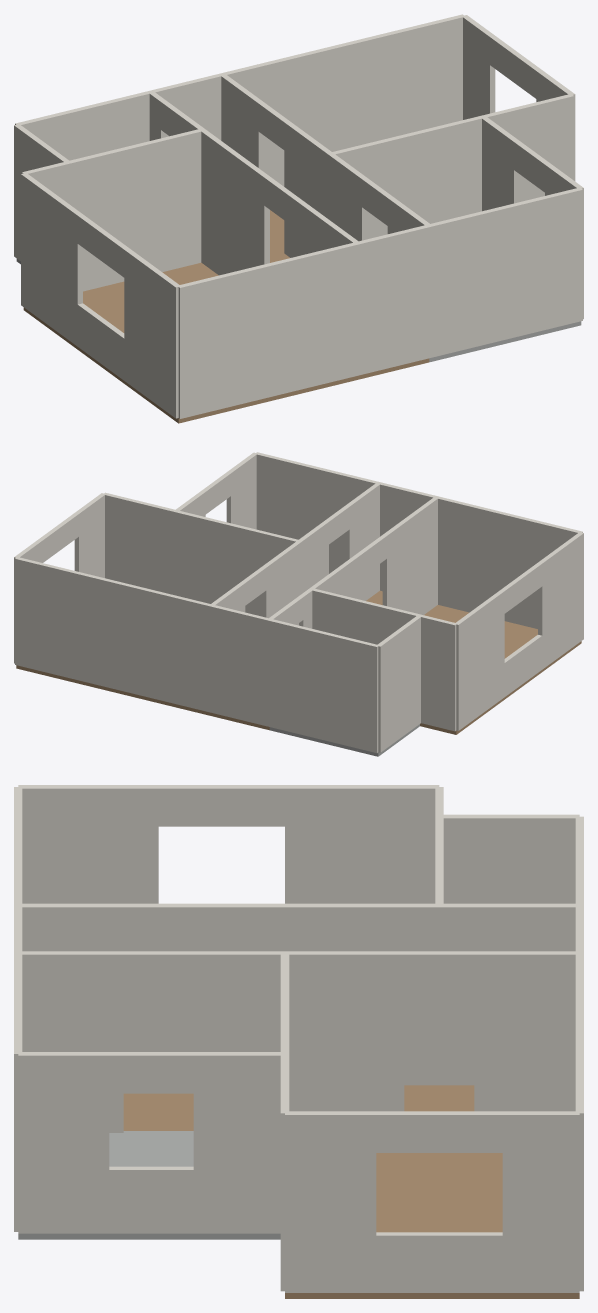
The model's file is property.glb.
3 renders of one model, top to bottom at view 1: azimuth 30°, elevation 25°; view 2: azimuth 150°, elevation 25°; view 3: azimuth 270°, elevation 25°, orthographic. The views are drawn at different scales.
Parts seen in each view (by area): view 1: wall_33, wall_35, wall_28, wall_30, wall_31, wall_34, wall_1, wall_9, wall_4, wall_26, wall_32, floor_bedroom (+23 smaller); view 2: wall_28, wall_26, wall_33, wall_31, wall_35, wall_27, wall_32, wall_1, wall_11, wall_4, wall_5, wall_29 (+23 smaller); view 3: wall_14, wall_1, wall_21, wall_25, wall_12, wall_4, wall_18, wall_22, wall_11, wall_5, wall_9, floor_living (+22 smaller).
Part boxes in pixels (x1=…): wall_33: x1=178, y1=242, x2=358, y2=418; wall_35: x1=429, y1=187, x2=582, y2=357; wall_28: x1=221, y1=14, x2=464, y2=186; wall_30: x1=67, y1=128, x2=201, y2=291; wall_31: x1=330, y1=115, x2=484, y2=239; wall_34: x1=358, y1=224, x2=430, y2=375; wall_1: x1=21, y1=173, x2=82, y2=346; wall_9: x1=200, y1=129, x2=269, y2=275; wall_4: x1=124, y1=248, x2=180, y2=418; wall_26: x1=15, y1=91, x2=151, y2=160; wall_32: x1=482, y1=94, x2=574, y2=201; floor_bedroom: x1=23, y1=262, x2=357, y2=423; wall_28: x1=15, y1=557, x2=212, y2=712; wall_26: x1=268, y1=619, x2=378, y2=752; wall_33: x1=437, y1=496, x2=582, y2=628; wall_31: x1=175, y1=511, x2=300, y2=616; wall_35: x1=256, y1=452, x2=379, y2=573; wall_27: x1=210, y1=604, x2=269, y2=726; wall_32: x1=103, y1=492, x2=175, y2=595; wall_1: x1=455, y1=590, x2=504, y2=730; wall_11: x1=382, y1=497, x2=438, y2=614; wall_4: x1=538, y1=532, x2=583, y2=669; wall_5: x1=376, y1=615, x2=421, y2=752; wall_29: x1=420, y1=614, x2=456, y2=731; wall_14: x1=285, y1=951, x2=404, y2=1111; wall_1: x1=285, y1=785, x2=439, y2=903; wall_21: x1=18, y1=1052, x2=109, y2=1233; wall_25: x1=285, y1=1111, x2=376, y2=1292; wall_12: x1=474, y1=951, x2=579, y2=1111; wall_4: x1=18, y1=785, x2=158, y2=903; wall_18: x1=193, y1=1052, x2=284, y2=1233; wall_22: x1=502, y1=1111, x2=579, y2=1292; wall_11: x1=22, y1=903, x2=193, y2=1051; wall_5: x1=439, y1=814, x2=579, y2=951; wall_9: x1=264, y1=903, x2=439, y2=1085; floor_living: x1=285, y1=1153, x2=579, y2=1298.
Bounding box in the file's own units: 11.12 × 2.92 × 8.12.
